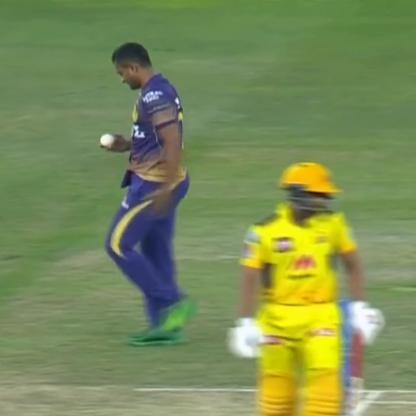ball: (98, 128, 119, 151)
